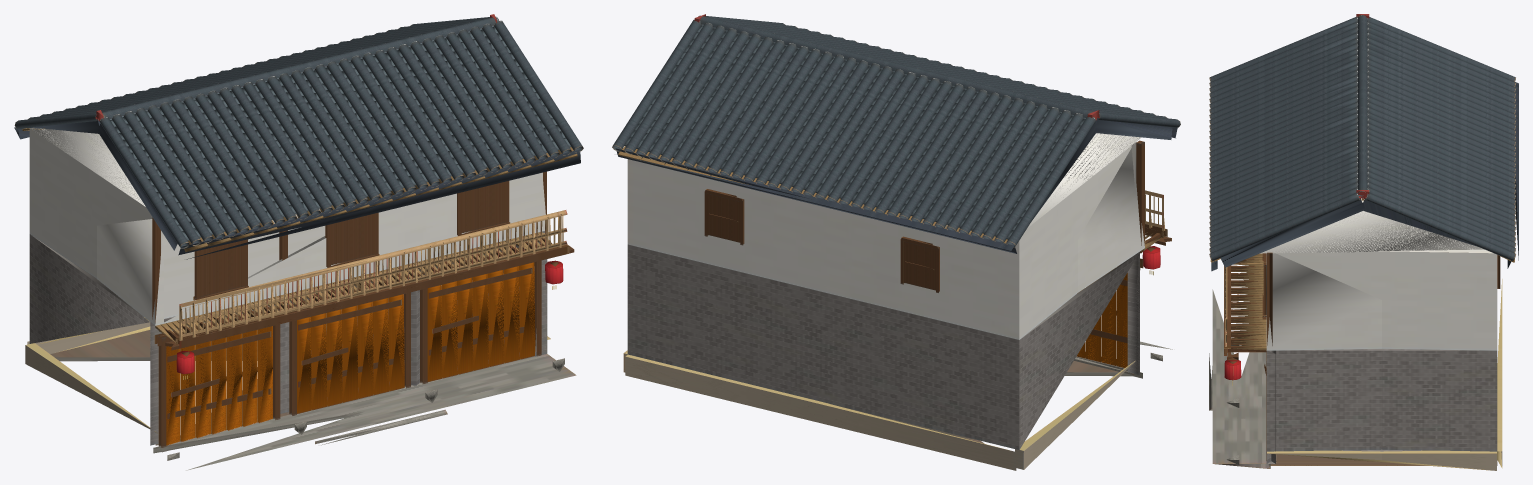
Rendered from lib_lib_house_a2.glb.
3 renders of one model, left to right at view 1: azimuth 30°, elevation 25°; view 2: azimuth 150°, elevation 25°; view 3: azimuth 270°, elevation 25°, orthographic. The views are drawn at different scales.
Parts seen in each view (by area): view 1: house_a2; view 2: house_a2; view 3: house_a2.
Part boxes in pixels (bbox=[...]): house_a2: bbox=[14, 14, 583, 470]; house_a2: bbox=[612, 14, 1180, 470]; house_a2: bbox=[1209, 14, 1518, 470].
Size of the model in its own units: 11.12 by 8 by 8.06.
8 materials, 8 textured.
